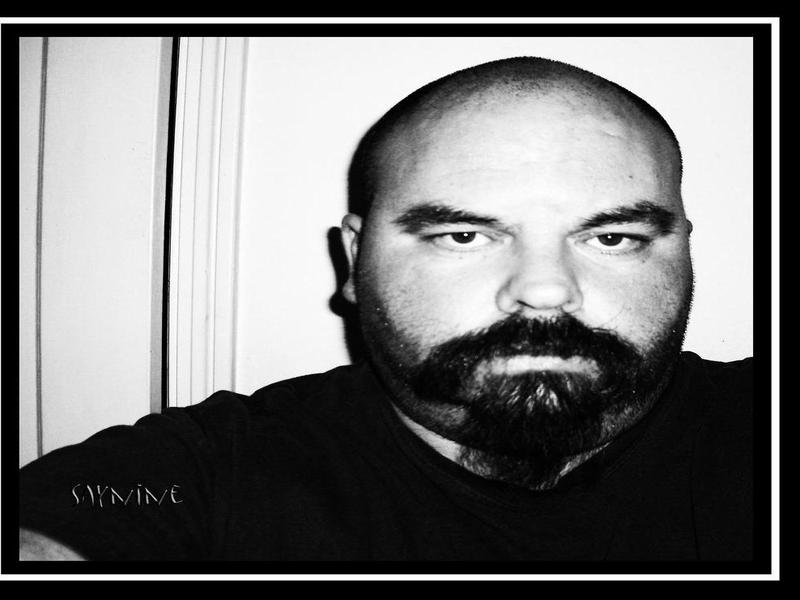person: (29, 44, 751, 560)
